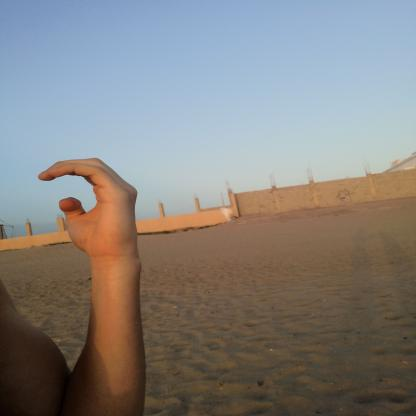JEEM: (22, 149, 153, 267)
